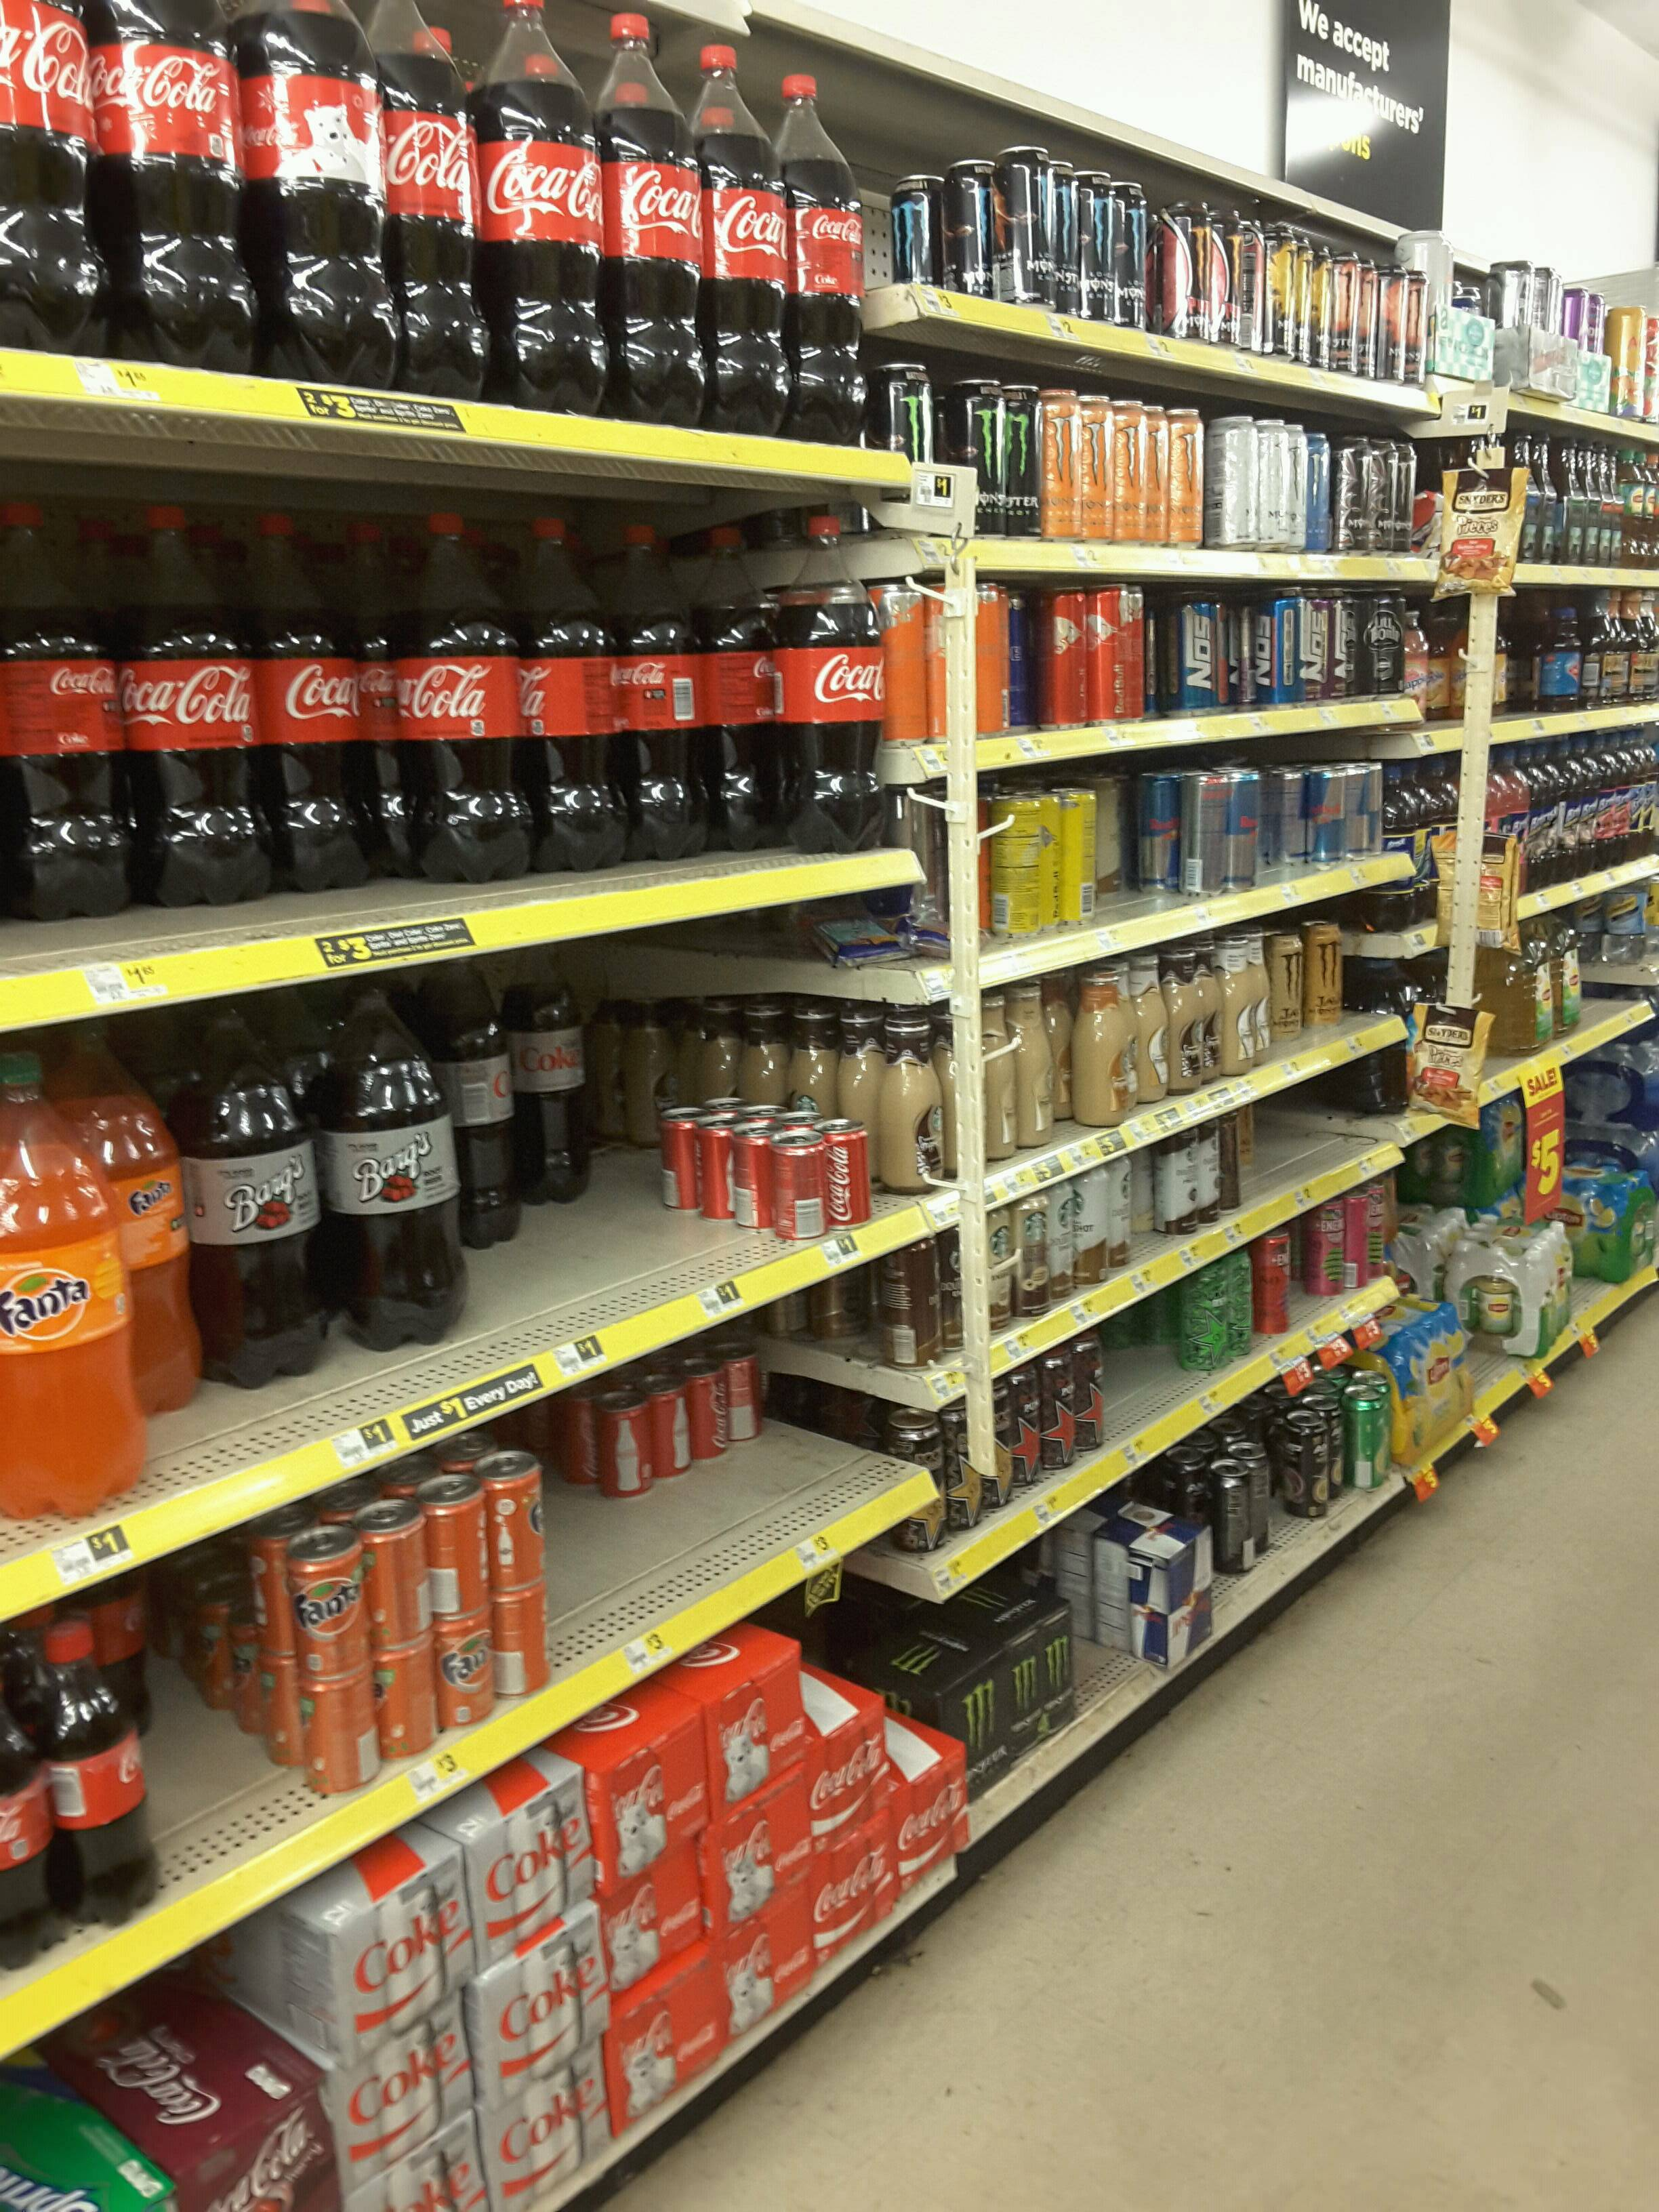Misplacement: (26, 543, 373, 968), (429, 500, 798, 892), (195, 970, 457, 1474), (594, 1329, 892, 1562), (63, 1588, 300, 1876), (453, 953, 613, 1343), (1098, 784, 1199, 928), (1469, 1268, 1535, 1392), (1229, 1103, 1263, 1219)
Out-of-stock: (1079, 1561, 1154, 1721), (1110, 1298, 1187, 1435)
